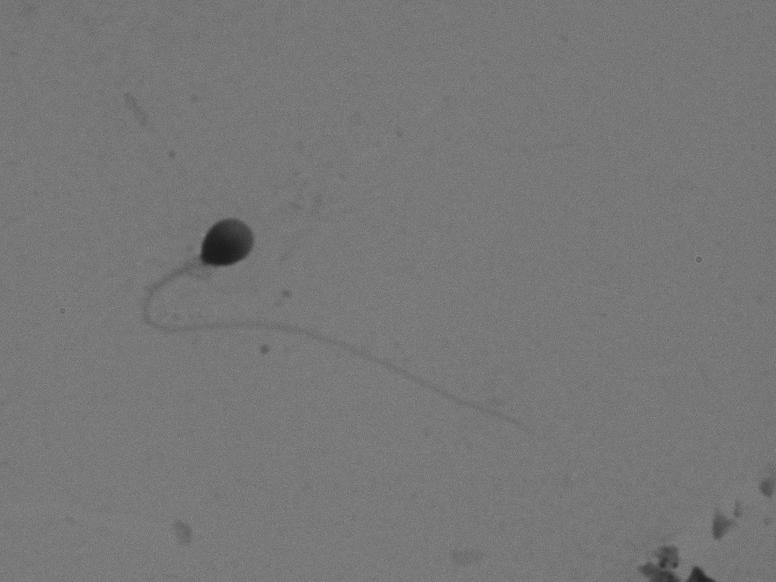Normal: (98, 204, 587, 436)
